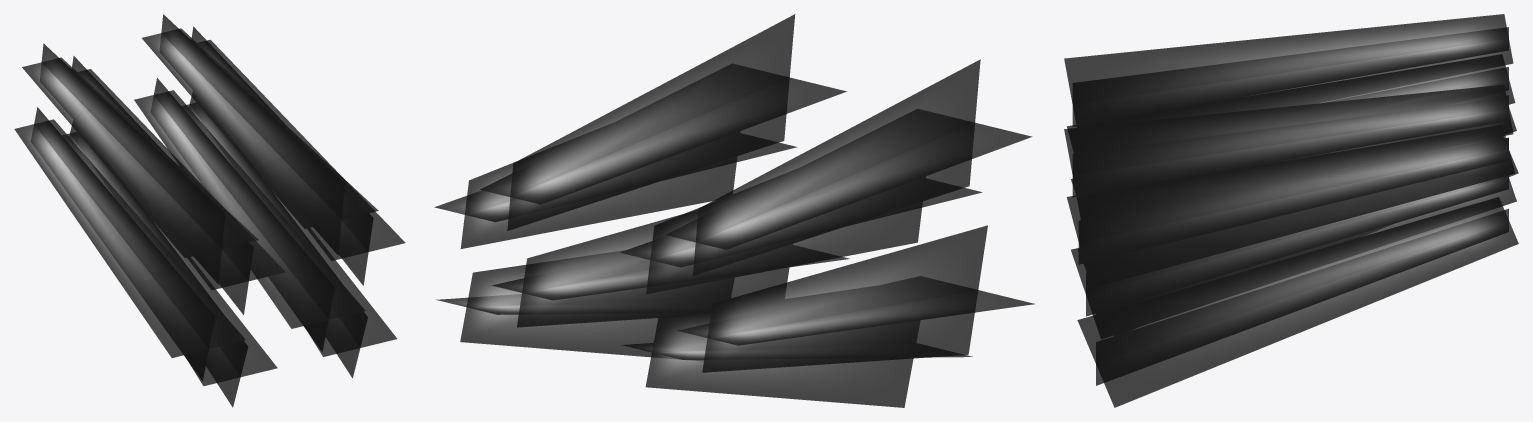
Rendered from fx_godrays.FBX.
3 renders of one model, left to right at view 1: azimuth 30°, elevation 25°; view 2: azimuth 150°, elevation 25°; view 3: azimuth 270°, elevation 25°, orthographic. The views are drawn at different scales.
Visible parts, largest first — view 1: fx_godrays; view 2: fx_godrays; view 3: fx_godrays.
Boxes of the visible parts, x1,y1,x2,y2 form: fx_godrays: (14,14,405,407); fx_godrays: (434,14,1034,407); fx_godrays: (1064,14,1518,407).
Bounding box in the file's own units: 3.2 × 3.36 × 4.52.
Materials: 1 (1 with a texture image).
